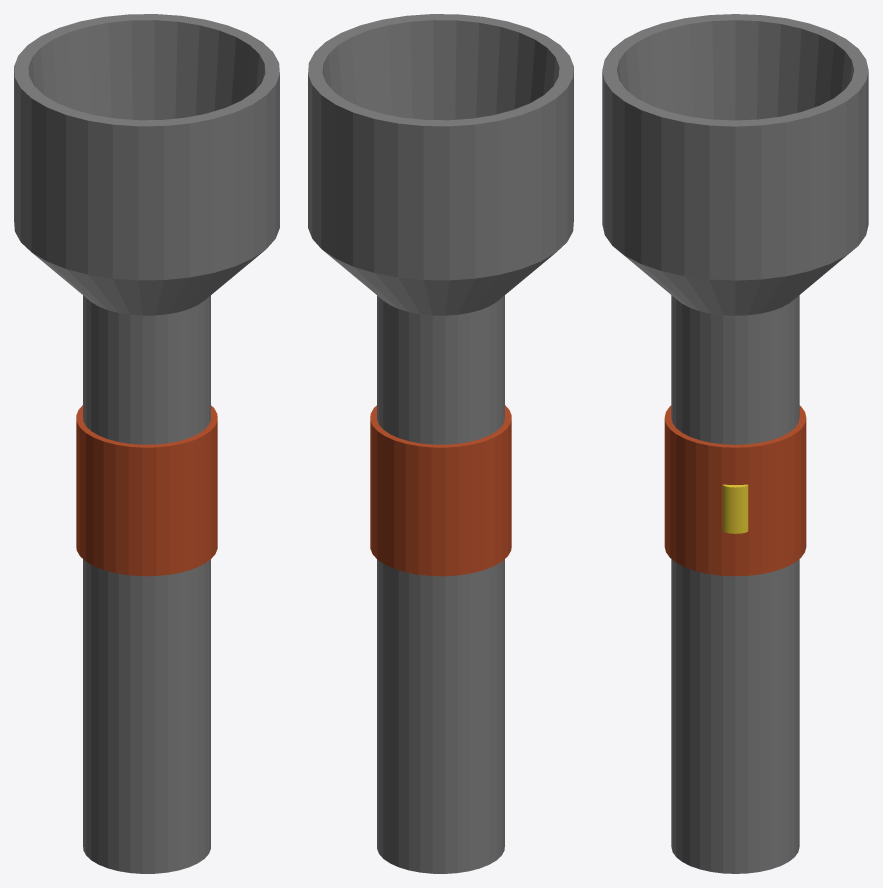
Rendered from Tourch.fbx.
The picture shows the model from 3 angles, left to right: view 1: azimuth 30°, elevation 25°; view 2: azimuth 150°, elevation 25°; view 3: azimuth 270°, elevation 25°; orthographic projection.
Visible parts, largest first — view 1: Cylinder, Cylinder.001; view 2: Cylinder, Cylinder.001; view 3: Cylinder, Cylinder.001, Cylinder.002.
Part boxes in pixels (x1,y1,x2,y2): Cylinder: (14, 14, 279, 873); Cylinder.001: (76, 405, 217, 576); Cylinder: (308, 14, 573, 873); Cylinder.001: (370, 405, 511, 576); Cylinder: (602, 14, 868, 873); Cylinder.001: (664, 405, 806, 576); Cylinder.002: (722, 484, 748, 533).
Bounding box in the file's own units: 348 × 1120 × 348.
